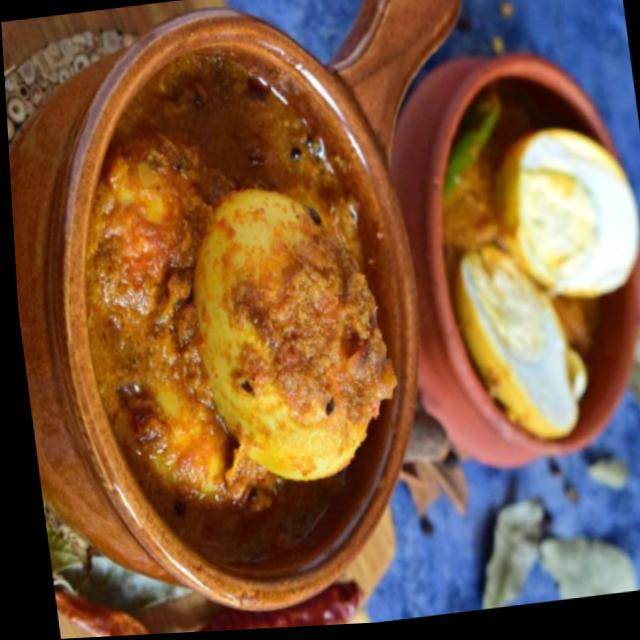EGG: (92, 63, 393, 567), (448, 86, 639, 432)
